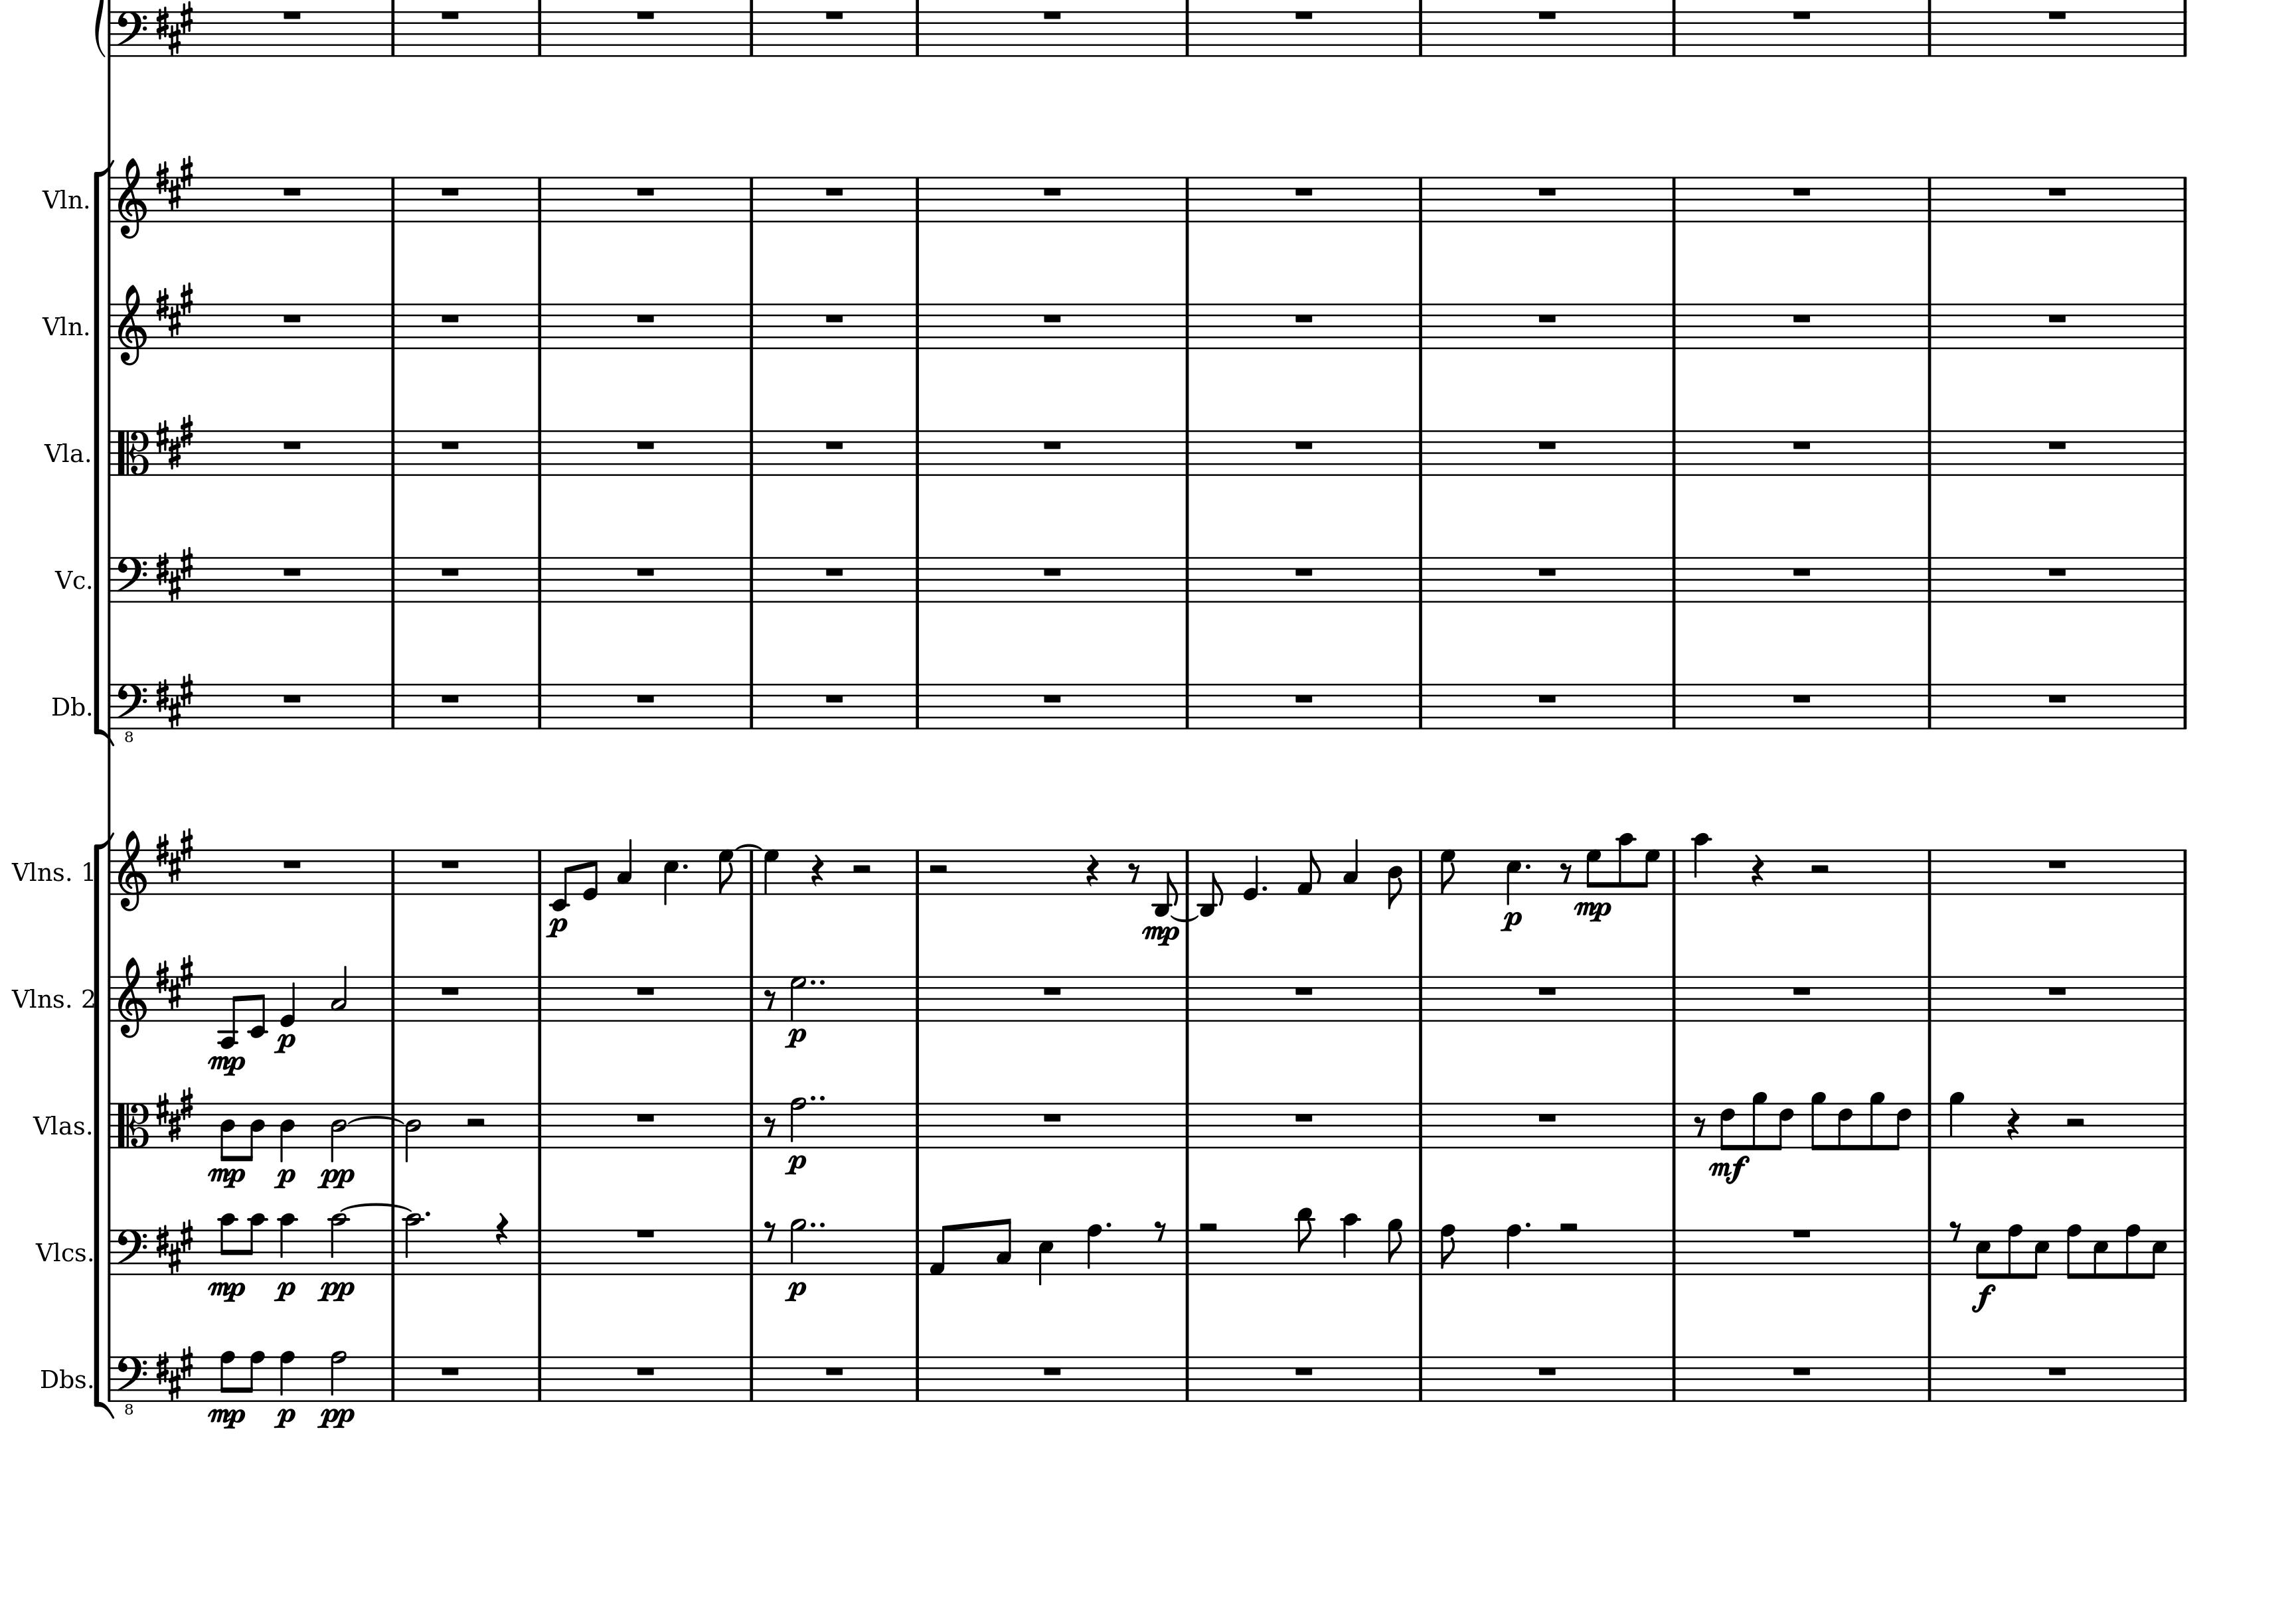2_10: (402, 1212, 423, 1275), (329, 1212, 348, 1273)
2_3: (329, 964, 348, 1022)
2_4: (329, 1101, 348, 1163), (404, 1101, 422, 1163)
2_7: (789, 973, 808, 1022)
2_8: (329, 1349, 348, 1402), (789, 1096, 808, 1147)
2_9: (789, 1215, 808, 1273)
4_0: (279, 973, 297, 1028), (1242, 848, 1260, 901)
4_10: (278, 1210, 299, 1275), (1340, 1210, 1360, 1275), (1692, 833, 1711, 896)
4_3: (1342, 838, 1358, 896), (617, 838, 632, 894)
4_4: (278, 1101, 295, 1163)
4_5: (1504, 848, 1521, 906), (1036, 1228, 1054, 1286), (662, 848, 678, 906)
4_7: (762, 848, 778, 894)
4_8: (278, 1349, 297, 1403), (1504, 1223, 1521, 1275), (1086, 1223, 1101, 1275)
4_9: (1948, 1091, 1966, 1149)
8_-2: (550, 848, 573, 910), (248, 973, 267, 1038)
8_-3: (1198, 848, 1224, 917), (1152, 848, 1179, 915)
8_-4: (216, 973, 242, 1049)
8_0: (581, 848, 599, 899)
8_1: (1296, 848, 1323, 896), (928, 1223, 949, 1275)
8_10: (244, 1210, 267, 1275), (1616, 833, 1635, 896), (218, 1210, 237, 1273)
8_11: (1295, 1207, 1314, 1275)
8_3: (994, 1217, 1012, 1275)
8_4: (242, 1101, 265, 1161), (1386, 848, 1404, 910), (218, 1101, 235, 1161)
8_5: (2029, 1228, 2050, 1279), (2147, 1228, 2168, 1279), (1975, 1228, 1992, 1280), (2092, 1228, 2108, 1279)
8_6: (1773, 1101, 1795, 1151), (1890, 1101, 1913, 1151), (1718, 1101, 1736, 1151), (1836, 1101, 1853, 1151)
8_7: (1641, 848, 1660, 894), (717, 848, 734, 894), (1439, 848, 1456, 894), (1585, 848, 1602, 894)
8_8: (244, 1349, 265, 1402), (2004, 1223, 2024, 1279), (2064, 1223, 2082, 1279), (2122, 1223, 2140, 1279), (1439, 1223, 1456, 1275), (218, 1349, 235, 1402)
8_9: (1809, 1091, 1827, 1151), (1867, 1091, 1885, 1151), (1386, 1217, 1404, 1275), (1751, 1091, 1767, 1151)
A_S: (153, 411, 197, 471), (153, 1084, 197, 1143), (153, 545, 197, 602), (153, 671, 197, 729), (153, 824, 195, 884), (153, 952, 195, 1012), (153, 1215, 195, 1275), (153, 153, 195, 211), (153, 279, 195, 337), (153, 1344, 195, 1402), (153, 0, 195, 56)
Bracke: (93, 819, 123, 1425), (93, 158, 121, 738)
Cclef: (114, 429, 149, 476), (116, 1101, 151, 1149)
Dbs: (44, 690, 86, 720)
Double_dot: (808, 977, 826, 987), (808, 1093, 826, 1103), (810, 1219, 826, 1230)
Fclef: (114, 9, 149, 58), (116, 555, 149, 604), (116, 1228, 149, 1277)
Gclef: (116, 281, 148, 367), (116, 954, 148, 1040), (116, 155, 148, 239), (116, 827, 148, 912)
Lower_Fclef: (116, 1352, 149, 1417), (116, 680, 149, 743)
Rests1: (279, 7, 304, 21), (437, 7, 462, 21), (822, 7, 847, 21), (1040, 7, 1065, 21), (1291, 7, 1316, 21), (1790, 7, 1815, 21), (2045, 7, 2069, 21), (279, 184, 304, 198), (2045, 184, 2069, 198), (279, 437, 304, 451), (437, 437, 462, 451), (822, 437, 847, 451), (2045, 437, 2069, 451), (437, 564, 462, 578), (822, 564, 847, 578), (1790, 564, 1815, 578), (279, 690, 304, 704), (437, 690, 462, 704), (822, 690, 847, 704), (634, 7, 657, 21), (1535, 7, 1558, 21), (1040, 184, 1063, 198), (1293, 184, 1316, 198), (1535, 184, 1558, 198), (1790, 184, 1813, 198), (634, 311, 657, 325), (634, 437, 657, 451), (1040, 437, 1063, 451), (1293, 437, 1316, 451), (1535, 437, 1558, 451), (1790, 437, 1813, 451), (1040, 564, 1063, 578), (1535, 564, 1558, 578), (2045, 564, 2068, 578), (634, 690, 657, 704), (1040, 690, 1063, 704), (1293, 690, 1316, 704), (1535, 690, 1558, 704), (1790, 690, 1813, 704), (2045, 690, 2068, 704), (634, 1110, 657, 1124), (634, 1226, 657, 1240), (1790, 1226, 1813, 1240), (634, 1363, 657, 1377), (1040, 1363, 1063, 1377), (1790, 1363, 1813, 1377), (2045, 1363, 2068, 1377), (437, 184, 462, 197), (822, 184, 847, 197), (279, 311, 304, 323), (437, 311, 462, 323), (822, 311, 847, 323), (279, 566, 304, 578), (279, 857, 304, 869), (437, 857, 462, 869), (2045, 857, 2069, 869), (437, 984, 462, 996), (1040, 984, 1065, 996), (2045, 984, 2069, 996), (1040, 1110, 1065, 1122), (437, 1363, 462, 1375), (822, 1363, 847, 1375), (634, 184, 657, 197), (1040, 311, 1063, 323), (1293, 311, 1316, 323), (1535, 311, 1558, 323), (1790, 311, 1813, 323), (2045, 311, 2068, 323), (634, 566, 657, 578), (1293, 566, 1316, 578), (634, 984, 657, 996), (1293, 984, 1316, 996), (1535, 984, 1558, 996), (1790, 984, 1813, 996), (1293, 1110, 1316, 1122), (1535, 1110, 1558, 1122), (1293, 1363, 1316, 1375), (1535, 1363, 1558, 1375)
Rests2: (462, 1115, 488, 1131), (1195, 1219, 1221, 1235), (926, 861, 950, 876), (2062, 1115, 2087, 1129), (1806, 862, 1832, 875), (1556, 1219, 1579, 1233), (848, 862, 873, 875)
Rests4: (2004, 1105, 2020, 1142), (1084, 852, 1100, 887), (1750, 854, 1765, 889), (494, 1210, 509, 1245), (810, 852, 824, 889)
Rests8: (1692, 1114, 1708, 1138), (1948, 1217, 1964, 1242), (1126, 861, 1142, 884), (762, 1114, 778, 1136), (762, 987, 776, 1012), (1558, 861, 1572, 884), (762, 1219, 776, 1242), (1152, 1219, 1166, 1242)
Single_barline: (908, 975, 926, 1021), (1179, 1101, 1196, 1147), (385, 9, 401, 56), (1412, 1228, 1428, 1275), (385, 1354, 401, 1402), (385, 302, 401, 348), (532, 302, 548, 348), (910, 302, 926, 348), (1179, 302, 1195, 348), (1412, 302, 1428, 348), (1665, 302, 1681, 348), (1922, 302, 1938, 348), (532, 557, 548, 602), (1412, 683, 1428, 729), (1665, 683, 1681, 729), (1922, 683, 1938, 729), (2177, 683, 2192, 729), (1179, 848, 1195, 894), (910, 848, 926, 894), (1665, 848, 1681, 894), (1922, 848, 1938, 894), (385, 975, 401, 1021), (532, 975, 548, 1021), (1412, 975, 1428, 1021), (743, 975, 759, 1021), (1179, 975, 1195, 1021), (1665, 975, 1681, 1021), (1922, 975, 1938, 1021), (386, 1101, 402, 1147), (532, 1101, 548, 1147), (910, 1101, 926, 1147), (1412, 1101, 1428, 1147), (1665, 1101, 1681, 1147), (386, 1228, 402, 1273), (2177, 1230, 2192, 1275), (1665, 1230, 1681, 1275), (532, 1356, 548, 1402), (743, 1356, 759, 1402), (1412, 1356, 1428, 1402), (1665, 1356, 1681, 1402), (1922, 1356, 1938, 1402), (2177, 1356, 2192, 1402), (385, 177, 401, 221), (910, 177, 926, 221), (1922, 177, 1938, 221), (385, 430, 401, 474), (1922, 430, 1938, 474), (910, 430, 926, 474), (1412, 430, 1428, 474), (1665, 430, 1681, 474), (385, 557, 401, 601), (743, 557, 759, 601), (910, 557, 926, 601), (1412, 557, 1428, 601), (1665, 557, 1681, 601), (1922, 557, 1938, 601), (1179, 557, 1195, 601), (1179, 1230, 1195, 1273), (910, 1230, 926, 1273), (1922, 1230, 1938, 1273), (745, 9, 759, 56), (2177, 975, 2191, 1022), (532, 11, 546, 56), (910, 11, 924, 56), (1180, 11, 1195, 56), (1414, 11, 1428, 56), (1667, 11, 1681, 56), (1924, 11, 1938, 56), (2177, 11, 2191, 56), (532, 176, 546, 221), (745, 176, 759, 221), (2177, 176, 2191, 221), (745, 302, 759, 348), (2177, 302, 2191, 348), (386, 683, 401, 729), (532, 683, 546, 729), (745, 683, 759, 729), (910, 683, 924, 729), (1180, 683, 1195, 729), (2177, 848, 2191, 894), (386, 848, 401, 894), (534, 848, 548, 894), (745, 848, 759, 894), (745, 1101, 759, 1147), (1924, 1101, 1938, 1147), (2177, 1101, 2191, 1147), (910, 1356, 924, 1402), (1180, 1356, 1195, 1402), (1180, 177, 1195, 221), (1414, 177, 1428, 221), (1667, 177, 1681, 221), (532, 430, 546, 474), (745, 430, 759, 474), (1180, 430, 1195, 474), (2177, 430, 2191, 474), (2177, 557, 2191, 601), (1414, 848, 1428, 892), (532, 1230, 546, 1273), (745, 1230, 759, 1273), (104, 683, 116, 731), (104, 302, 116, 348), (105, 848, 118, 894), (104, 975, 116, 1021), (104, 430, 116, 474), (104, 557, 116, 601), (104, 1103, 116, 1147), (104, 1230, 116, 1273), (104, 1356, 116, 1400), (105, 9, 116, 58), (105, 176, 116, 221)
Slur: (339, 1201, 413, 1212), (348, 1115, 406, 1124), (1172, 913, 1198, 924), (734, 843, 762, 850)
Vc: (49, 560, 88, 594)
Vla: (44, 437, 84, 467), (33, 1110, 70, 1140)
Vlc: (35, 1237, 76, 1266)
Vln: (40, 309, 84, 341), (40, 183, 84, 213), (11, 855, 51, 885), (11, 984, 51, 1013)
dot: (422, 1208, 432, 1219), (1103, 1219, 1114, 1230), (1523, 861, 1532, 871), (1523, 1219, 1532, 1230), (1260, 884, 1268, 892), (680, 862, 689, 869)
f: (1969, 1282, 1996, 1312)
mf: (1706, 1154, 1750, 1184)
mp: (207, 1052, 248, 1078), (1140, 922, 1180, 947), (206, 1279, 246, 1303), (207, 1407, 246, 1432), (206, 1165, 246, 1187), (316, 1166, 357, 1189), (1572, 899, 1611, 922)
p: (272, 1031, 297, 1056), (545, 913, 567, 938), (1498, 908, 1521, 933), (783, 1152, 806, 1177), (783, 1279, 806, 1303), (783, 1026, 806, 1049), (274, 1166, 297, 1189), (272, 1280, 295, 1303), (272, 1407, 295, 1430)
pp: (316, 1405, 353, 1430), (316, 1280, 355, 1303)
